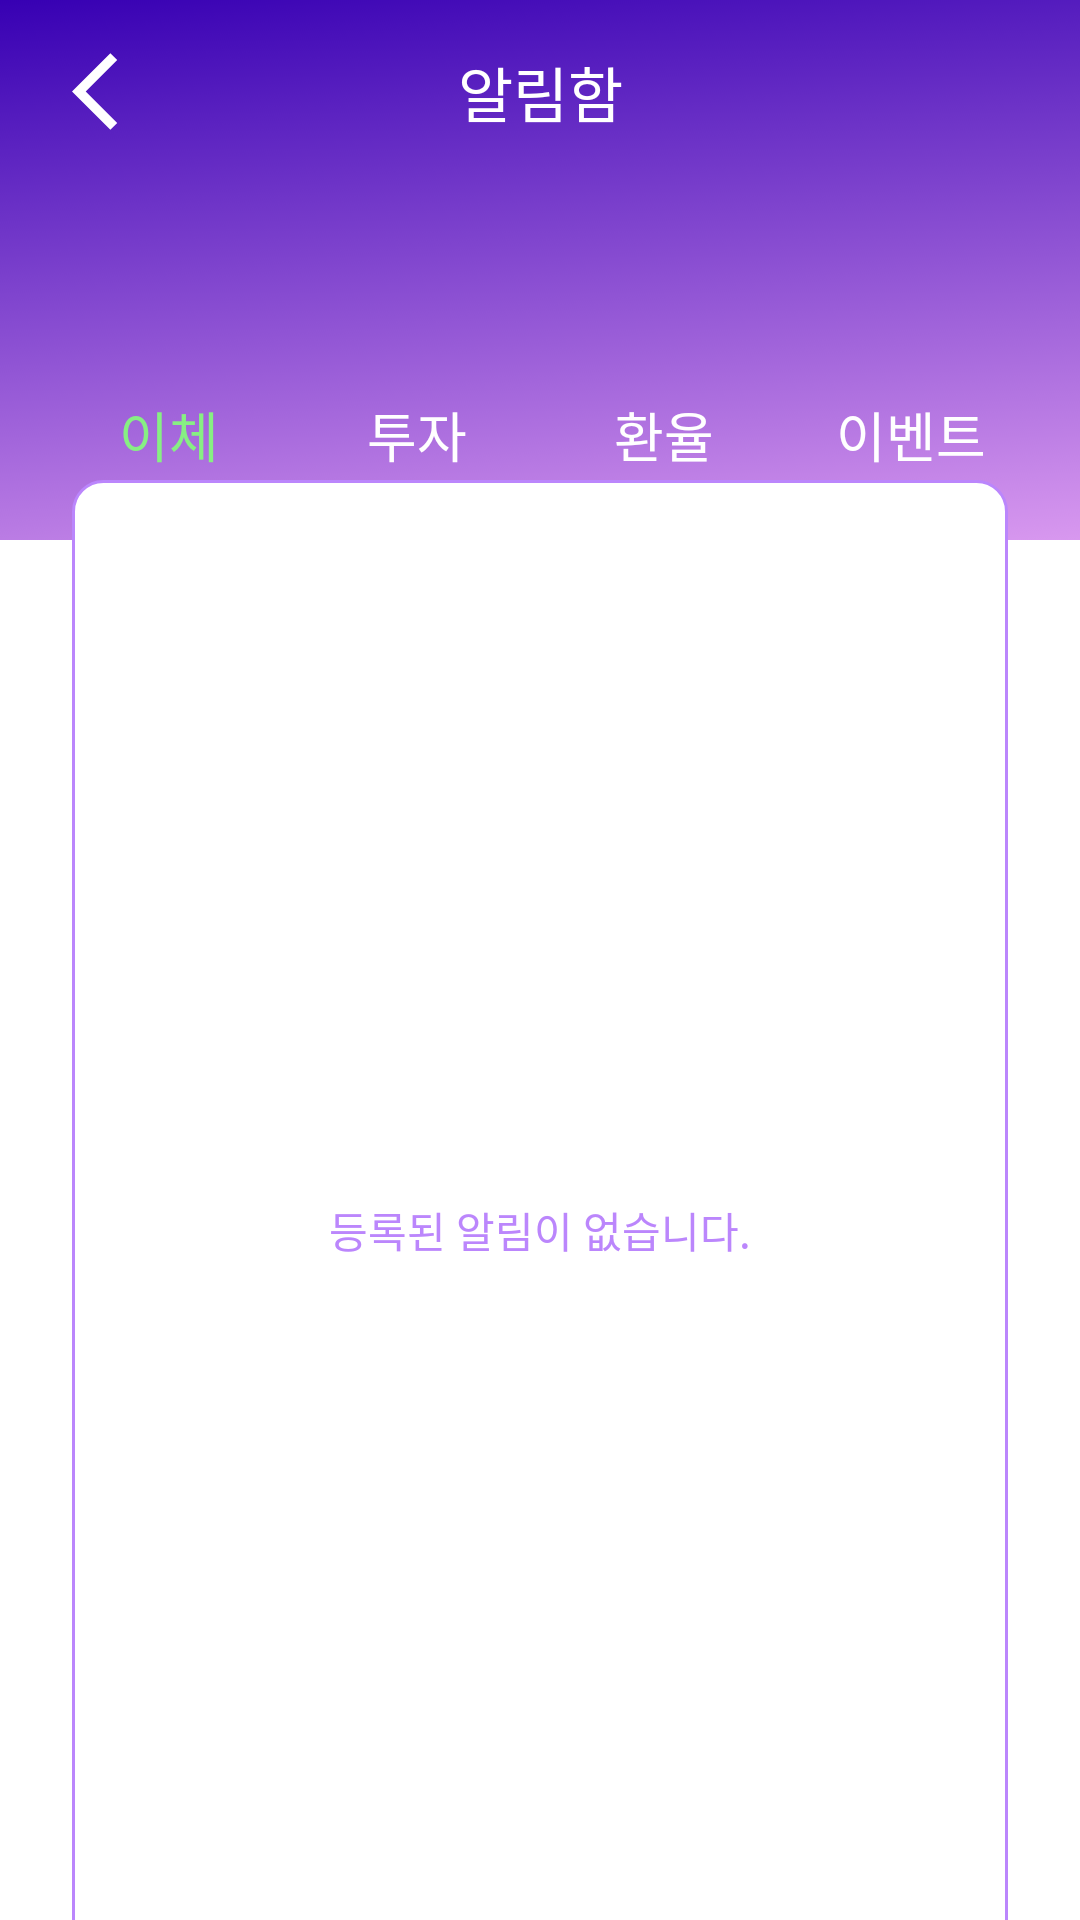

Locate icon controls on the screen. Image size 1080x1920, boxes as (x1, y1, x2, y2).
back: (72, 45, 165, 130)
